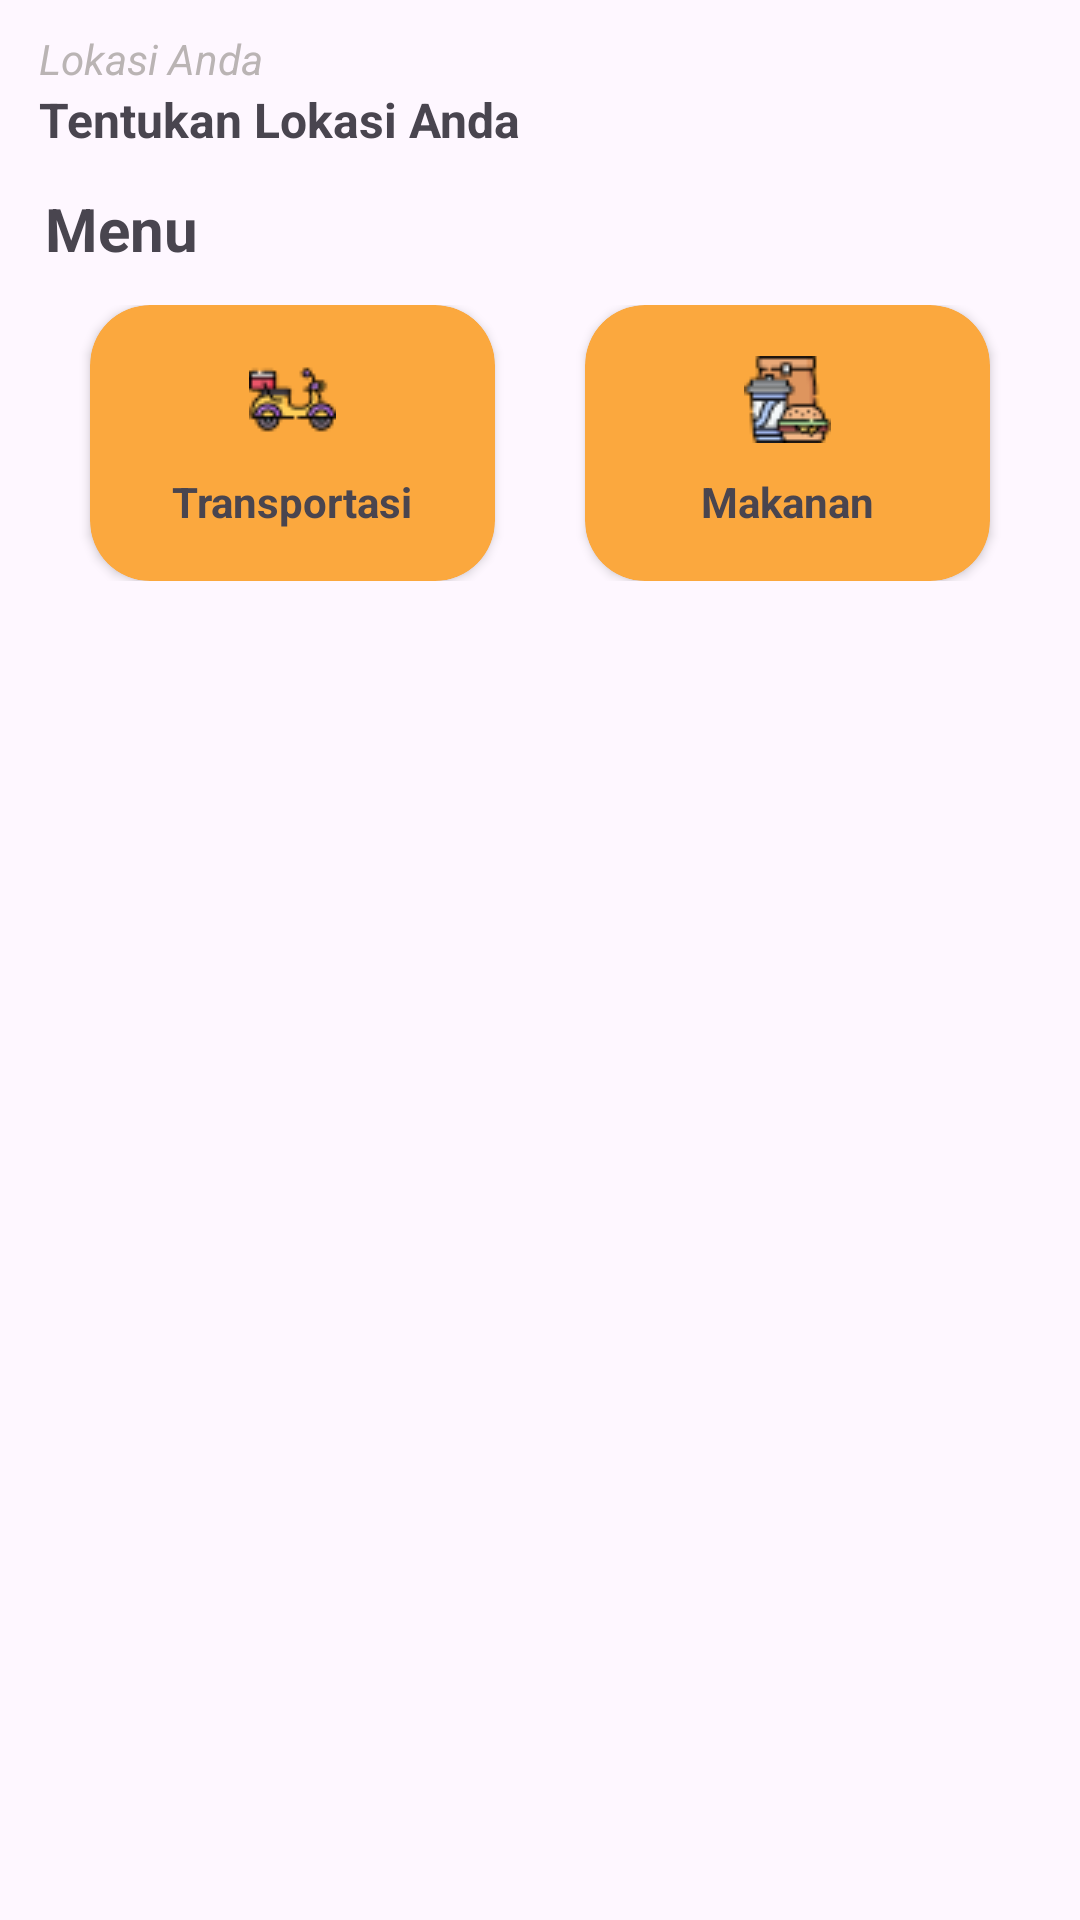

Where to tap for icons on this 1080w x 1920h app screen, as point (x, y):
motor: point (292, 399)
